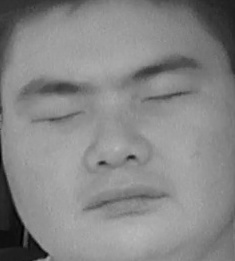blink: (28, 98, 82, 133), (144, 81, 191, 112)
mouth: (79, 177, 168, 225)
